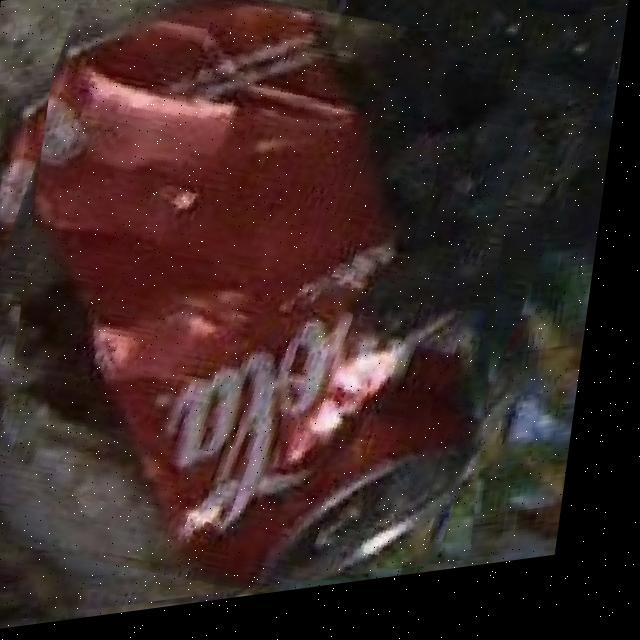can: (44, 0, 499, 596)
